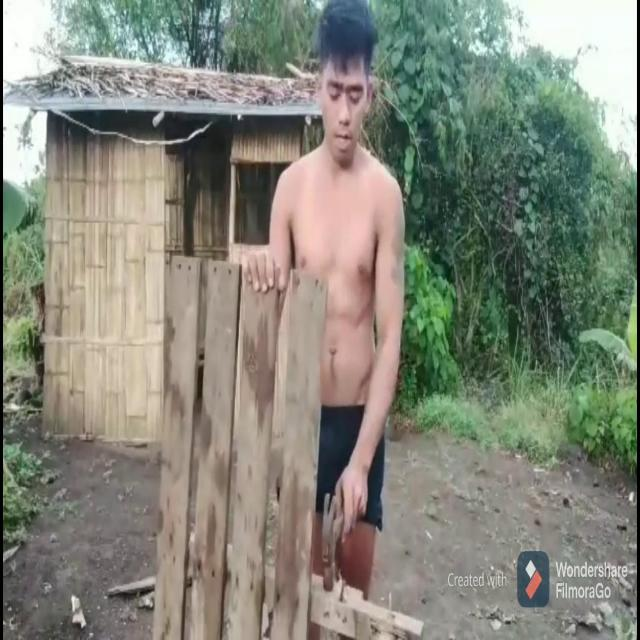hammer: (321, 488, 347, 591)
